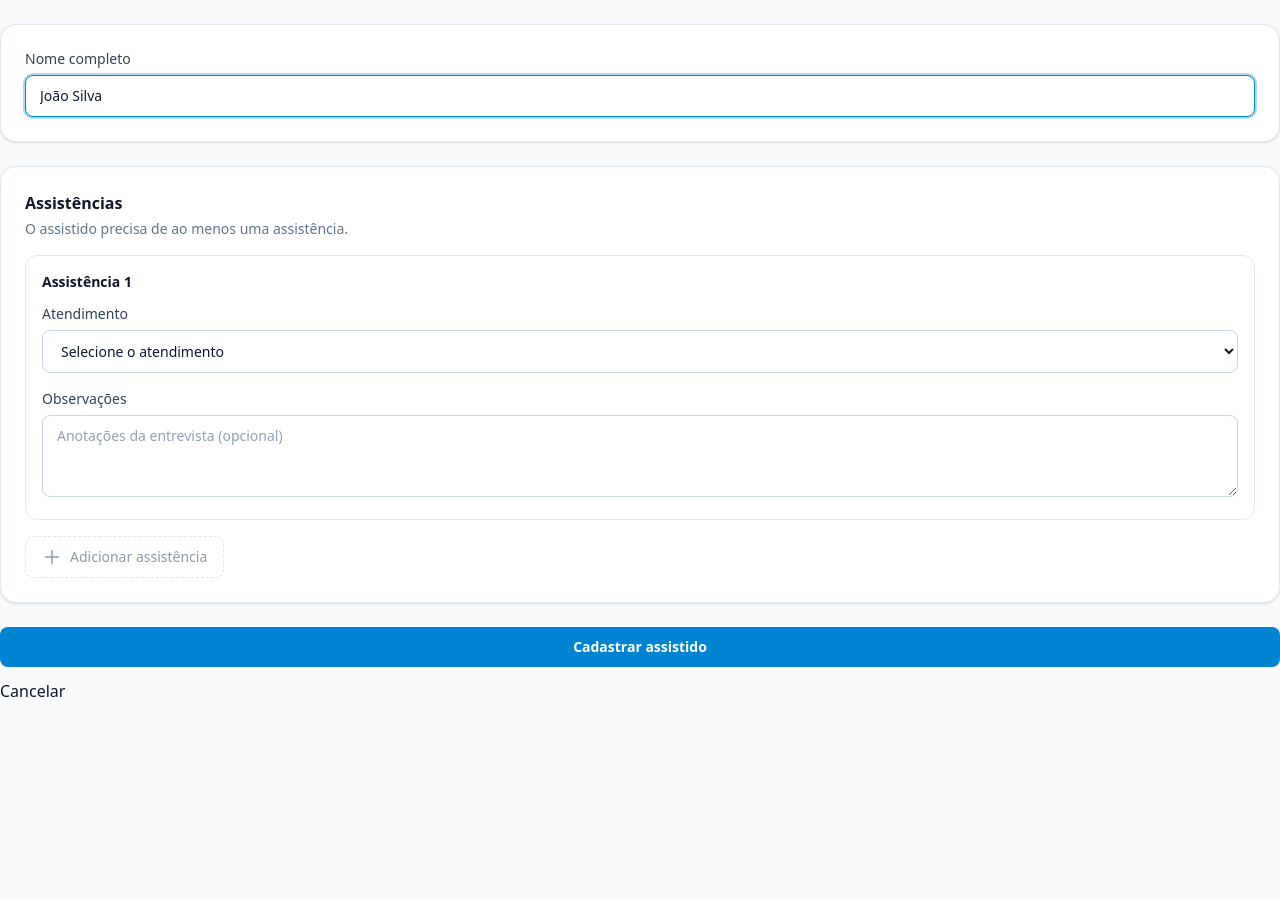
Test: treatment selection (new) › excludes duplicates in both directions and restores removed selections
Step 1. Select "Desobsessão Infantil — Terça" in the dropdown labelled "Atendimento" → [640, 352], box [42,330,1238,373]
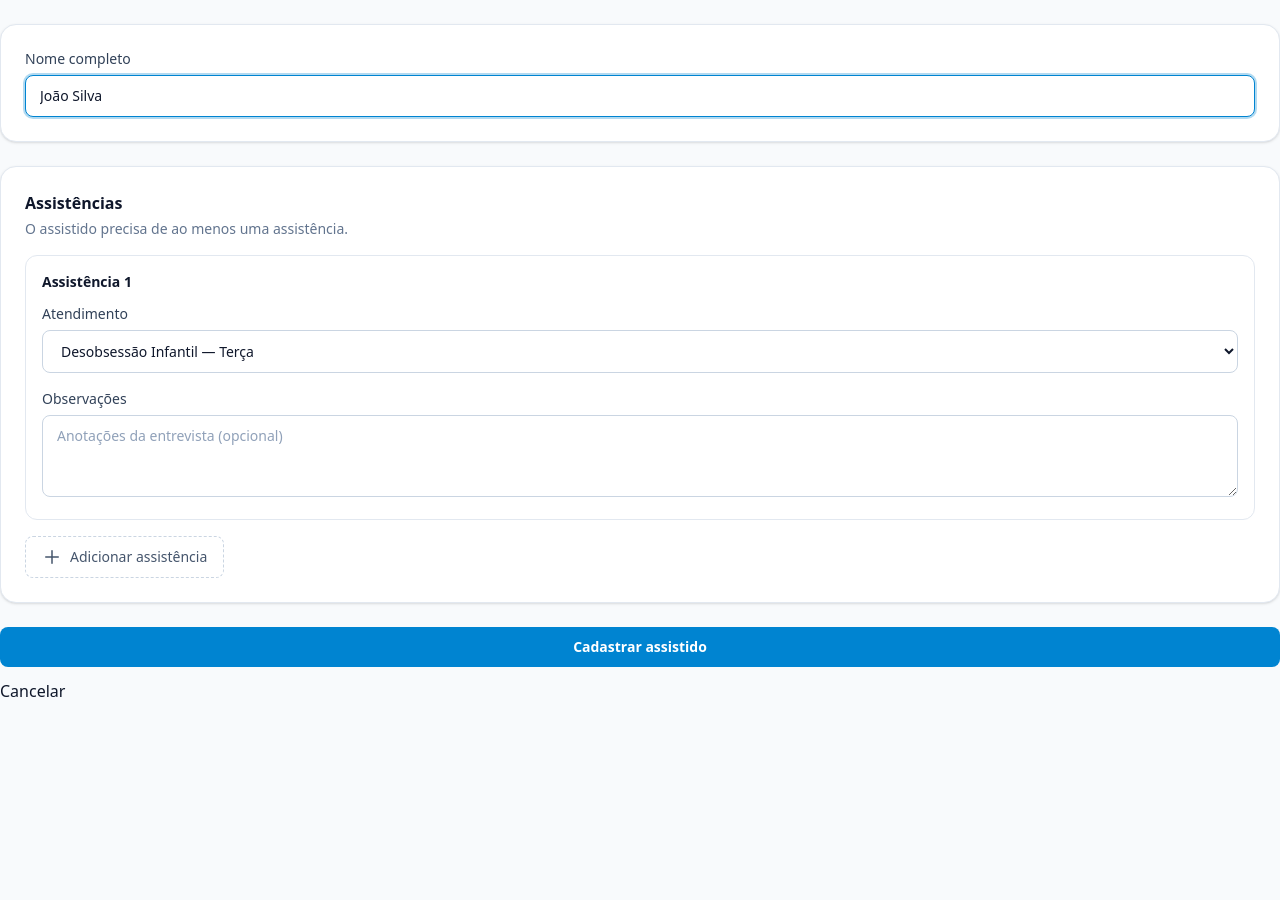
Step 2. Click the button "Adicionar assistência" → [125, 557], box [25,536,224,578]
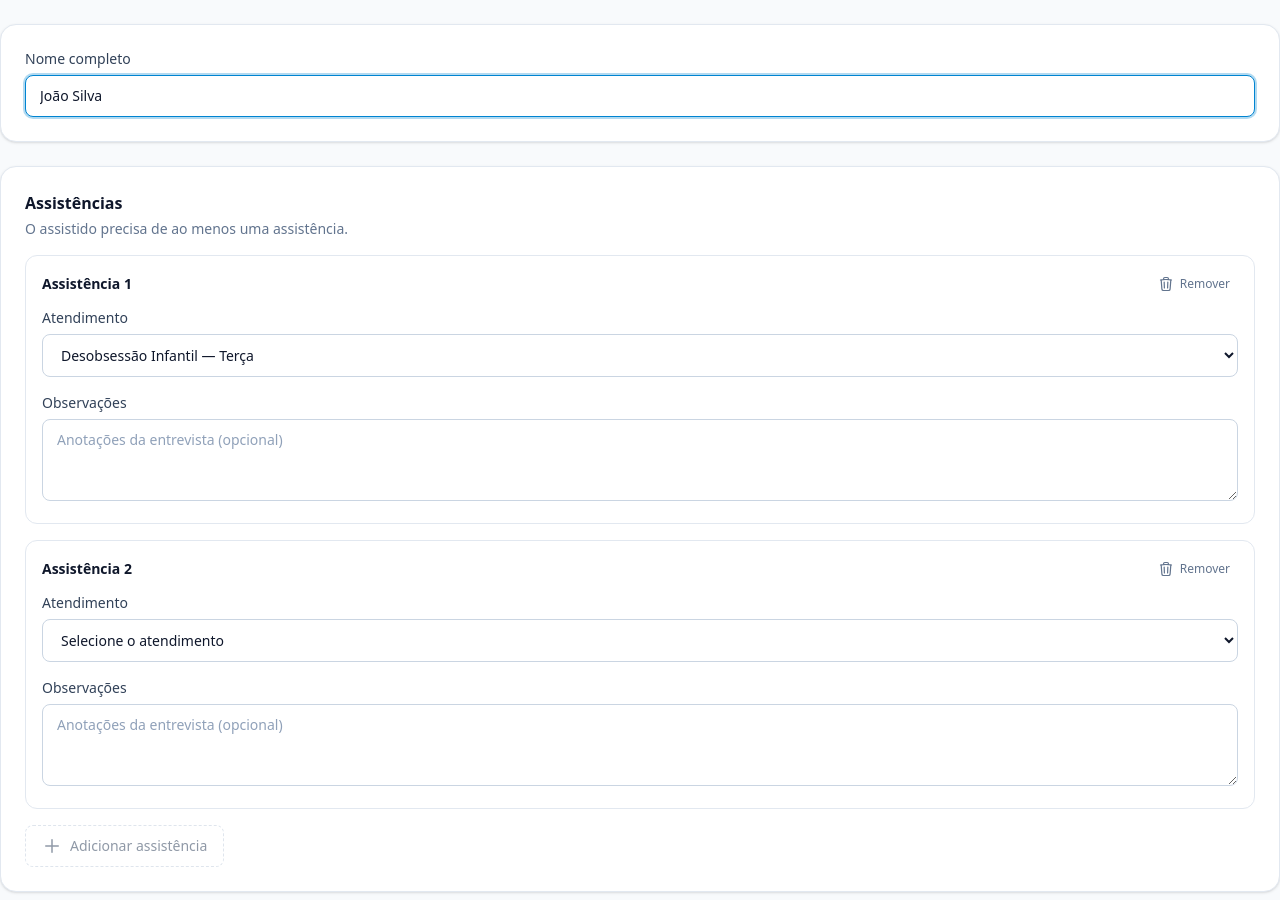
Step 3. Select "Acolher com Amor — Segunda" in the dropdown labelled "Atendimento" below "Assistência 2" → [640, 640], box [42,619,1238,662]
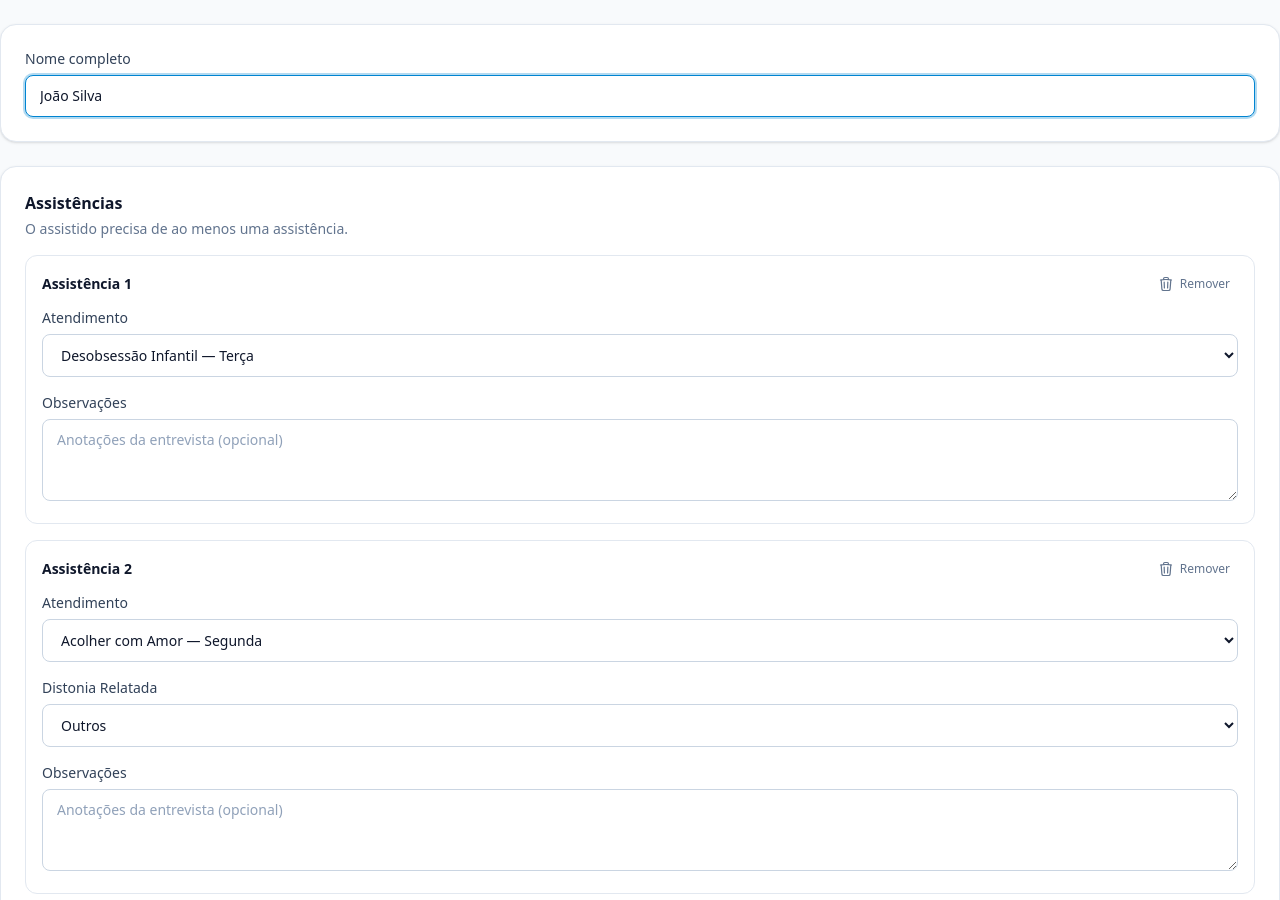
Step 4. Select "Desobsessão Infantil — Quinta" in the dropdown labelled "Atendimento" below "Assistência 1" → [640, 356], box [42,334,1238,377]
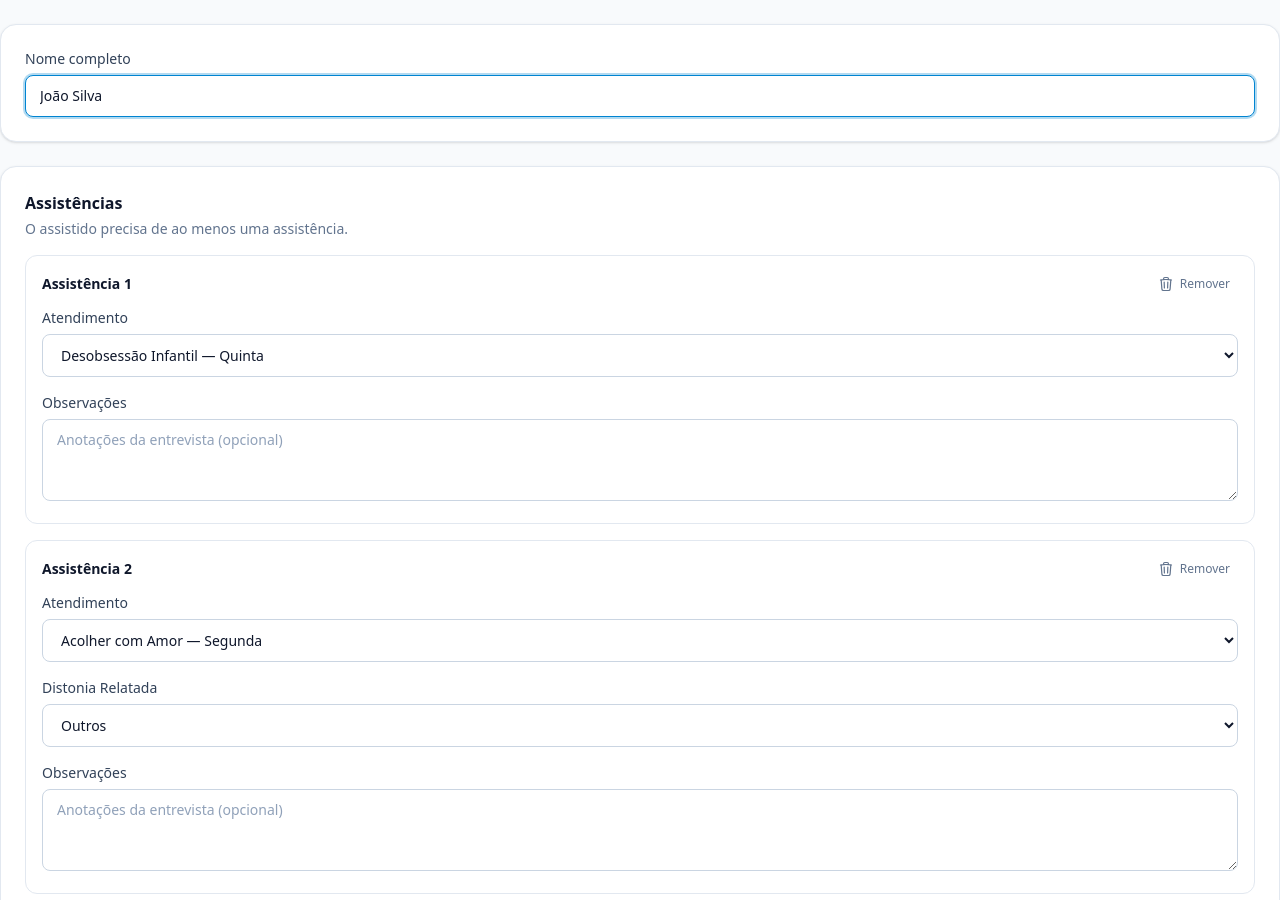
Step 5. Click the button "Remover" in the row of "Assistência 1" → [1194, 284], box [1150,272,1238,296]
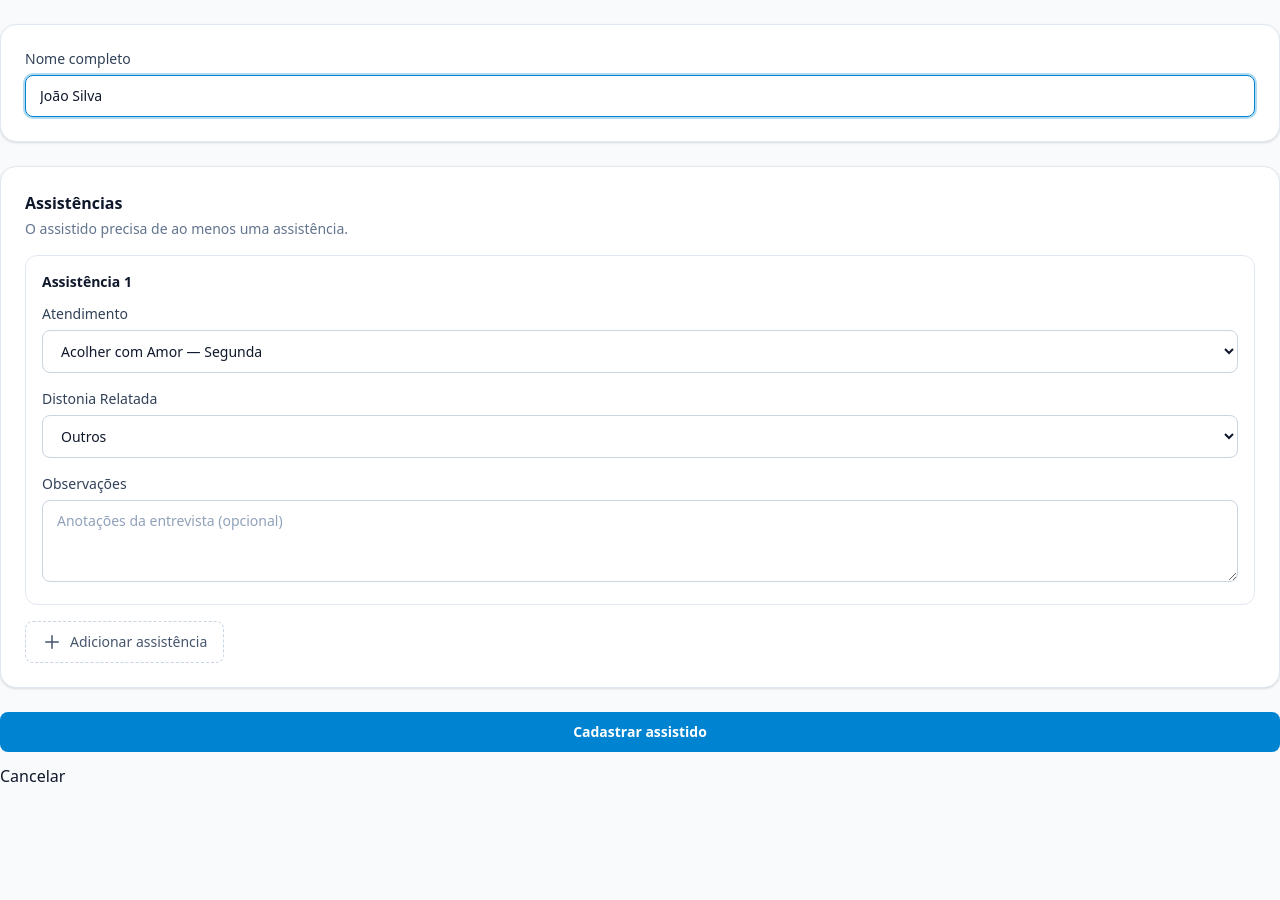
Result: the number of dropdowns labelled "Atendimento" is 1 at [42,330,1238,373]
